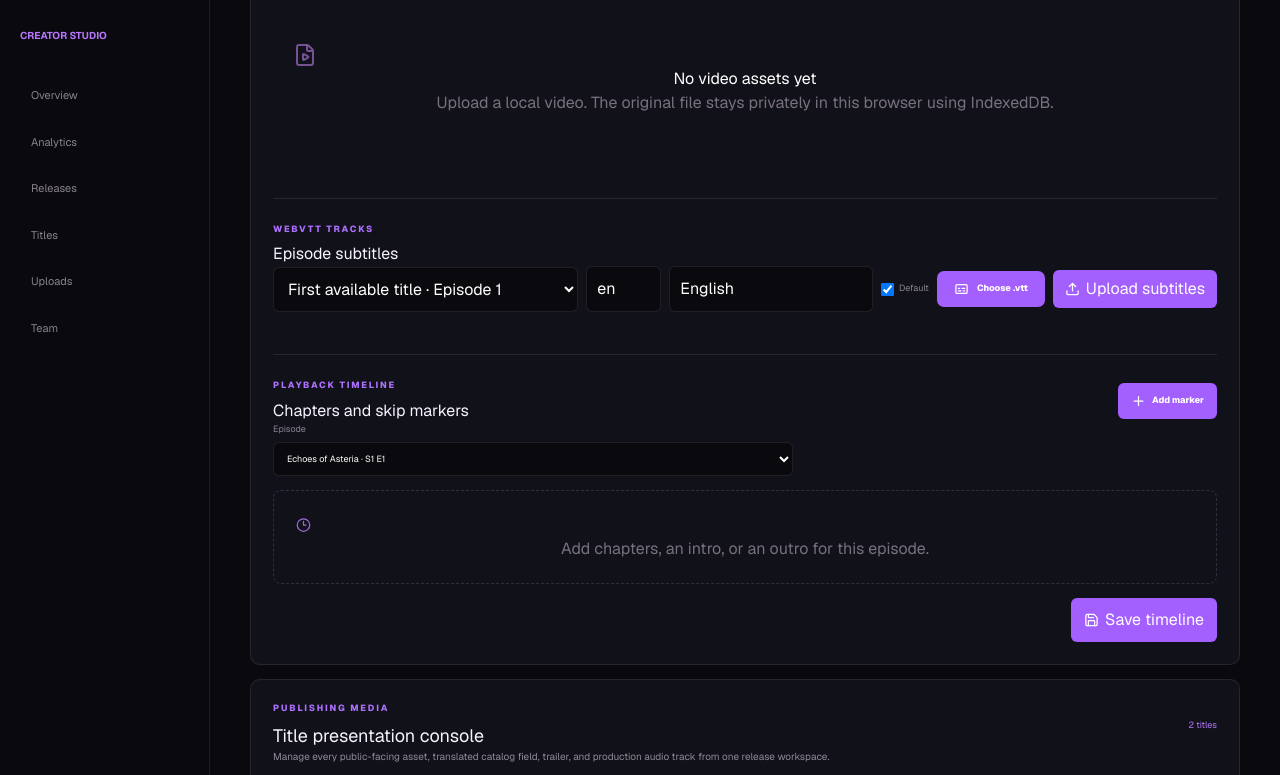
it: creator workspace › authors chapter, intro, and outro timelines
The width and height of the screenshot is (1280, 775).
(page scrolled)
Expected: the heading "Chapters and skip markers" is shown, 273,398 -> 469,422
Click the button "Add marker". click: x=1167, y=401
box: 1118,383 -> 1217,419
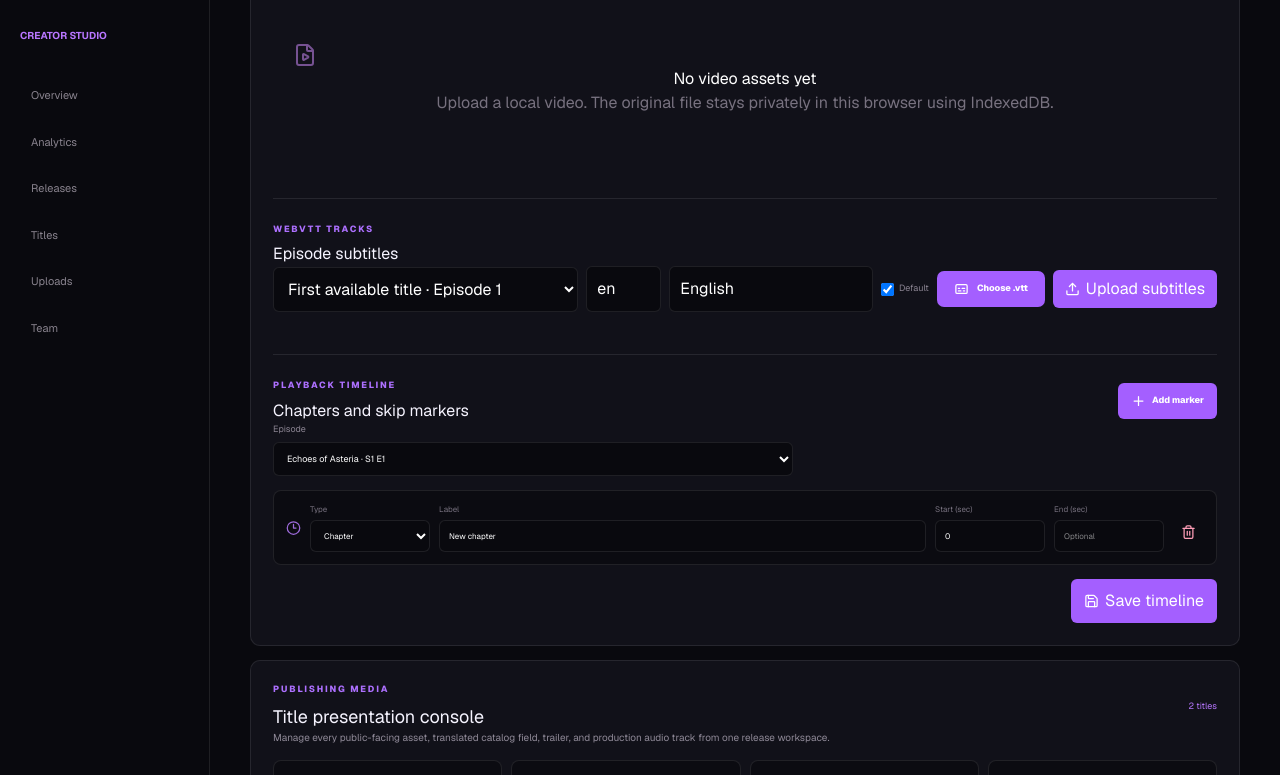
Expected: the number field named "Marker 1 start seconds" holds "0", 935,520 -> 1045,552
Result: the dropdown named "Marker 1 type" shows "Chapter" at 310,520 -> 430,552
Result: the field named "Marker 1 label" holds "New chapter" at 439,520 -> 926,552
